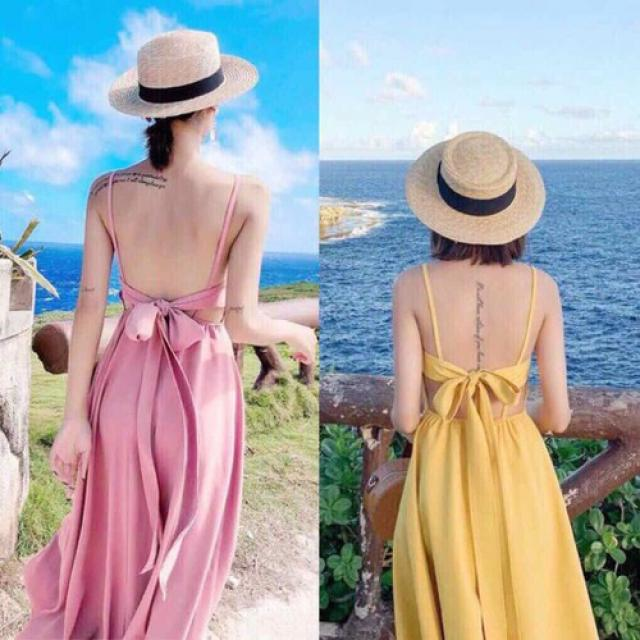clothes: (49, 173, 246, 640), (390, 259, 596, 640)
